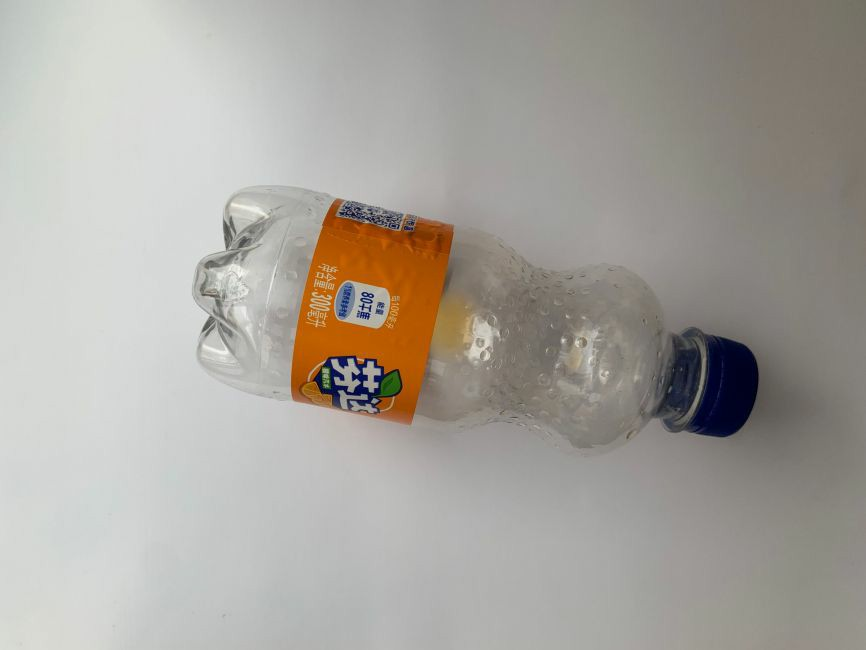bottle: (186, 172, 767, 466)
